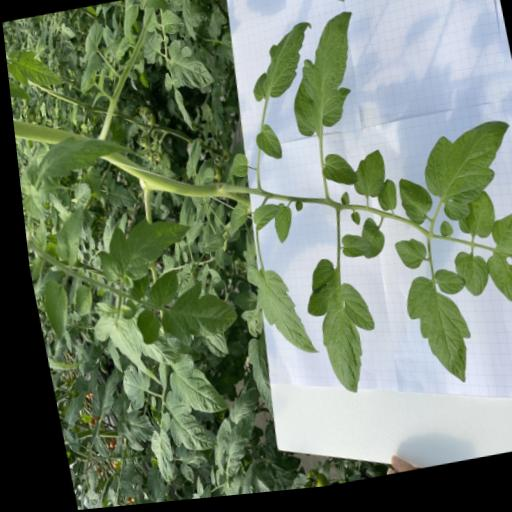Healthy: (290, 256, 378, 405), (275, 15, 371, 144), (410, 126, 512, 234), (391, 272, 476, 398), (87, 212, 195, 293), (237, 259, 311, 367), (239, 25, 322, 108), (147, 278, 234, 352), (26, 127, 135, 181), (84, 310, 153, 395), (156, 354, 220, 421), (153, 385, 207, 457), (200, 413, 256, 481), (234, 336, 271, 425), (4, 42, 62, 94), (163, 37, 214, 95), (42, 205, 88, 268), (447, 197, 493, 251), (33, 277, 68, 343), (445, 254, 485, 307), (391, 181, 430, 234), (348, 155, 385, 206), (110, 363, 147, 412), (84, 364, 117, 416), (136, 429, 166, 486), (314, 156, 355, 195), (216, 391, 254, 427), (350, 222, 381, 266), (50, 389, 84, 429), (387, 242, 423, 279), (139, 271, 175, 308), (100, 176, 134, 215), (176, 139, 206, 182), (249, 126, 279, 167), (170, 199, 194, 249), (126, 308, 156, 347), (264, 206, 291, 249), (24, 269, 62, 299), (78, 21, 107, 60), (116, 0, 143, 40), (332, 236, 367, 266), (137, 29, 163, 69), (171, 90, 192, 137), (369, 183, 394, 219), (245, 207, 277, 235), (44, 189, 68, 223), (65, 283, 89, 316), (223, 466, 247, 498), (159, 10, 185, 38), (220, 205, 245, 234), (224, 293, 252, 317), (96, 339, 114, 376), (223, 155, 247, 182), (197, 334, 221, 361), (66, 181, 89, 209), (203, 10, 223, 42), (106, 477, 130, 501), (195, 235, 221, 256), (311, 0, 349, 13), (86, 300, 110, 320), (180, 221, 200, 245), (53, 425, 70, 453), (206, 205, 223, 232), (75, 465, 91, 491), (82, 433, 98, 459), (201, 270, 218, 294), (148, 363, 161, 393), (107, 463, 126, 483), (193, 169, 212, 189), (207, 248, 221, 275), (143, 0, 167, 15), (73, 488, 89, 508), (187, 205, 201, 227), (218, 229, 236, 246), (150, 413, 163, 434), (165, 243, 177, 265), (12, 135, 23, 158), (171, 265, 186, 281), (183, 476, 193, 498), (160, 74, 171, 94), (196, 467, 205, 487), (194, 265, 205, 281)
